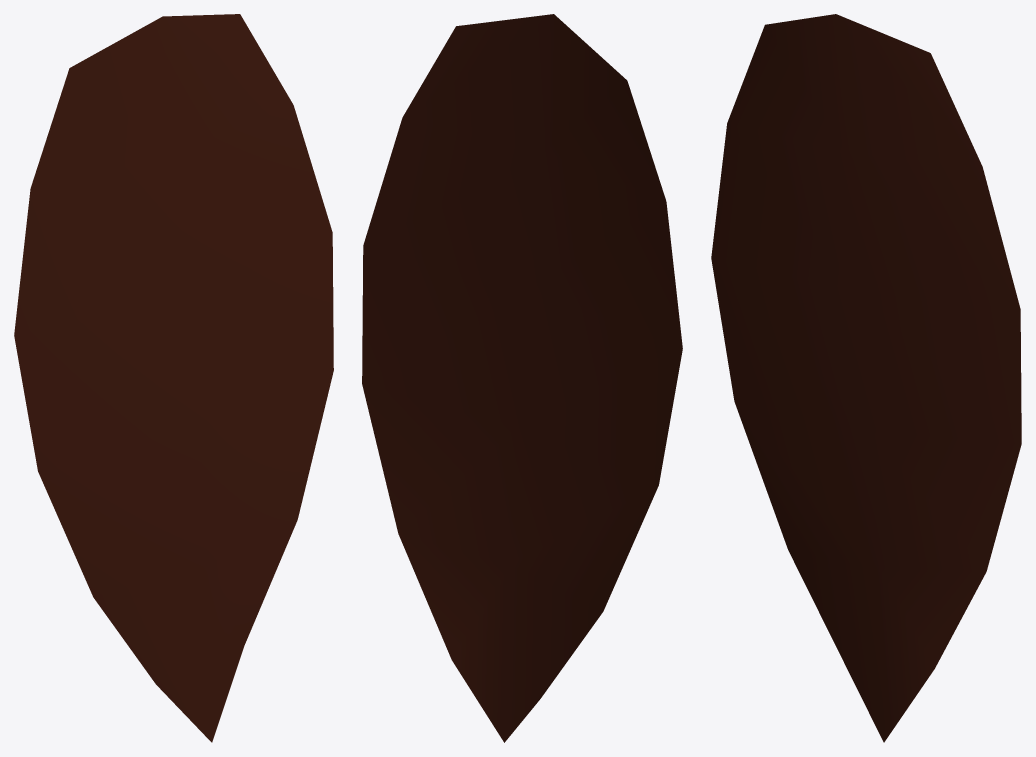
Rendered from rooster_feather_flight_tertiary_008.obj.
3 views of the same model, side by side, from view 1: azimuth 30°, elevation 25°; view 2: azimuth 150°, elevation 25°; view 3: azimuth 330°, elevation 25° (orthographic). The views are drawn at different scales.
Visible parts, largest first — view 1: feather_flight_tertiary_008; view 2: feather_flight_tertiary_008; view 3: feather_flight_tertiary_008.
Part boxes in pixels (x1,y1,x2,y2): feather_flight_tertiary_008: (14, 14, 333, 742); feather_flight_tertiary_008: (362, 14, 682, 742); feather_flight_tertiary_008: (711, 14, 1021, 742).
Size of the model in its own units: 0.00926 by 0.0205 by 0.000502.
